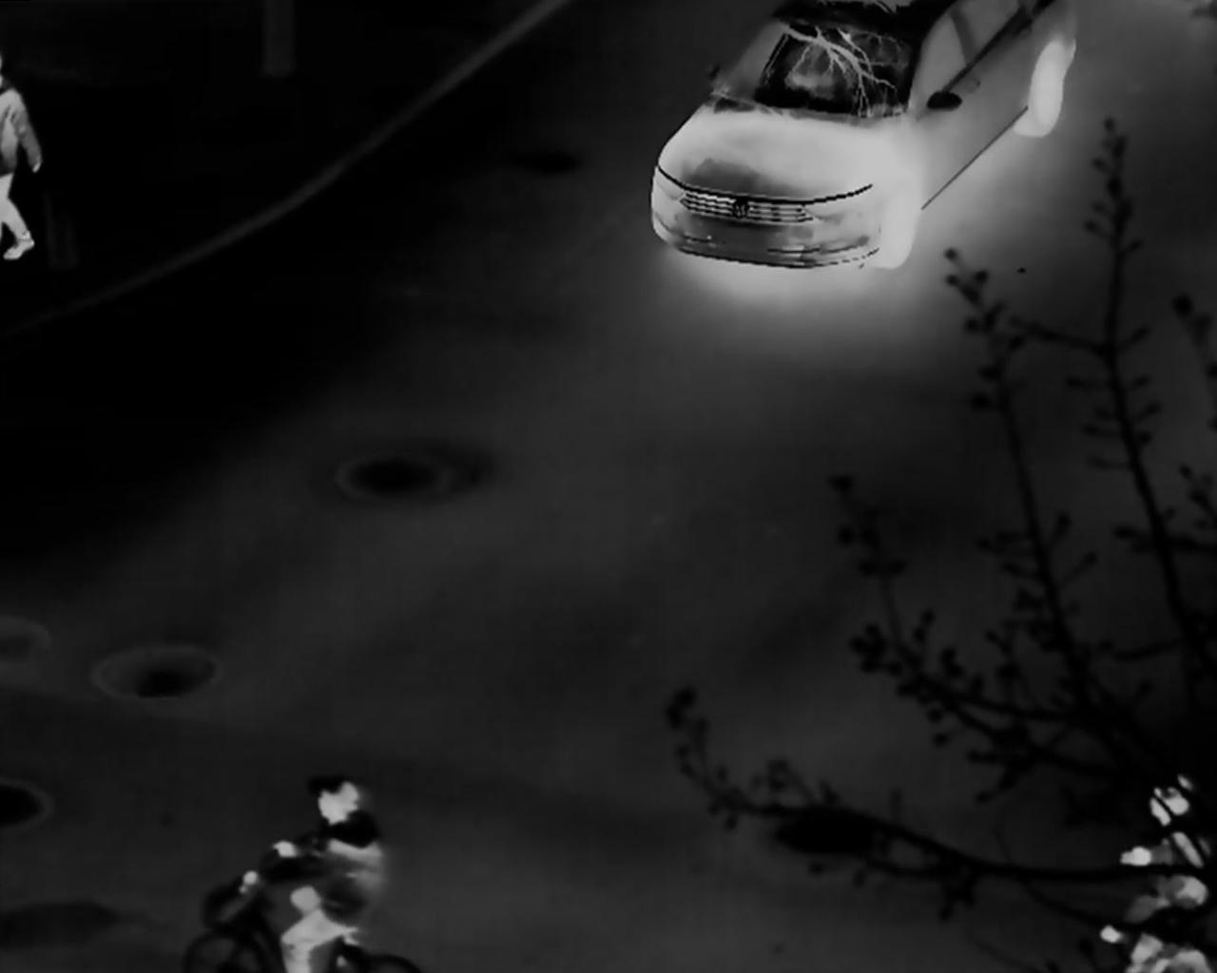person: (241, 775, 385, 973), (1101, 754, 1217, 968)
